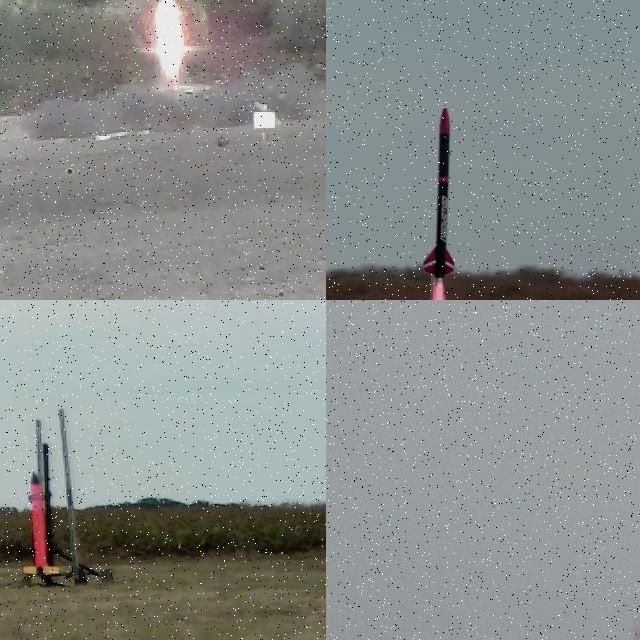Rocket: (423, 103, 456, 280), (22, 470, 62, 576)
